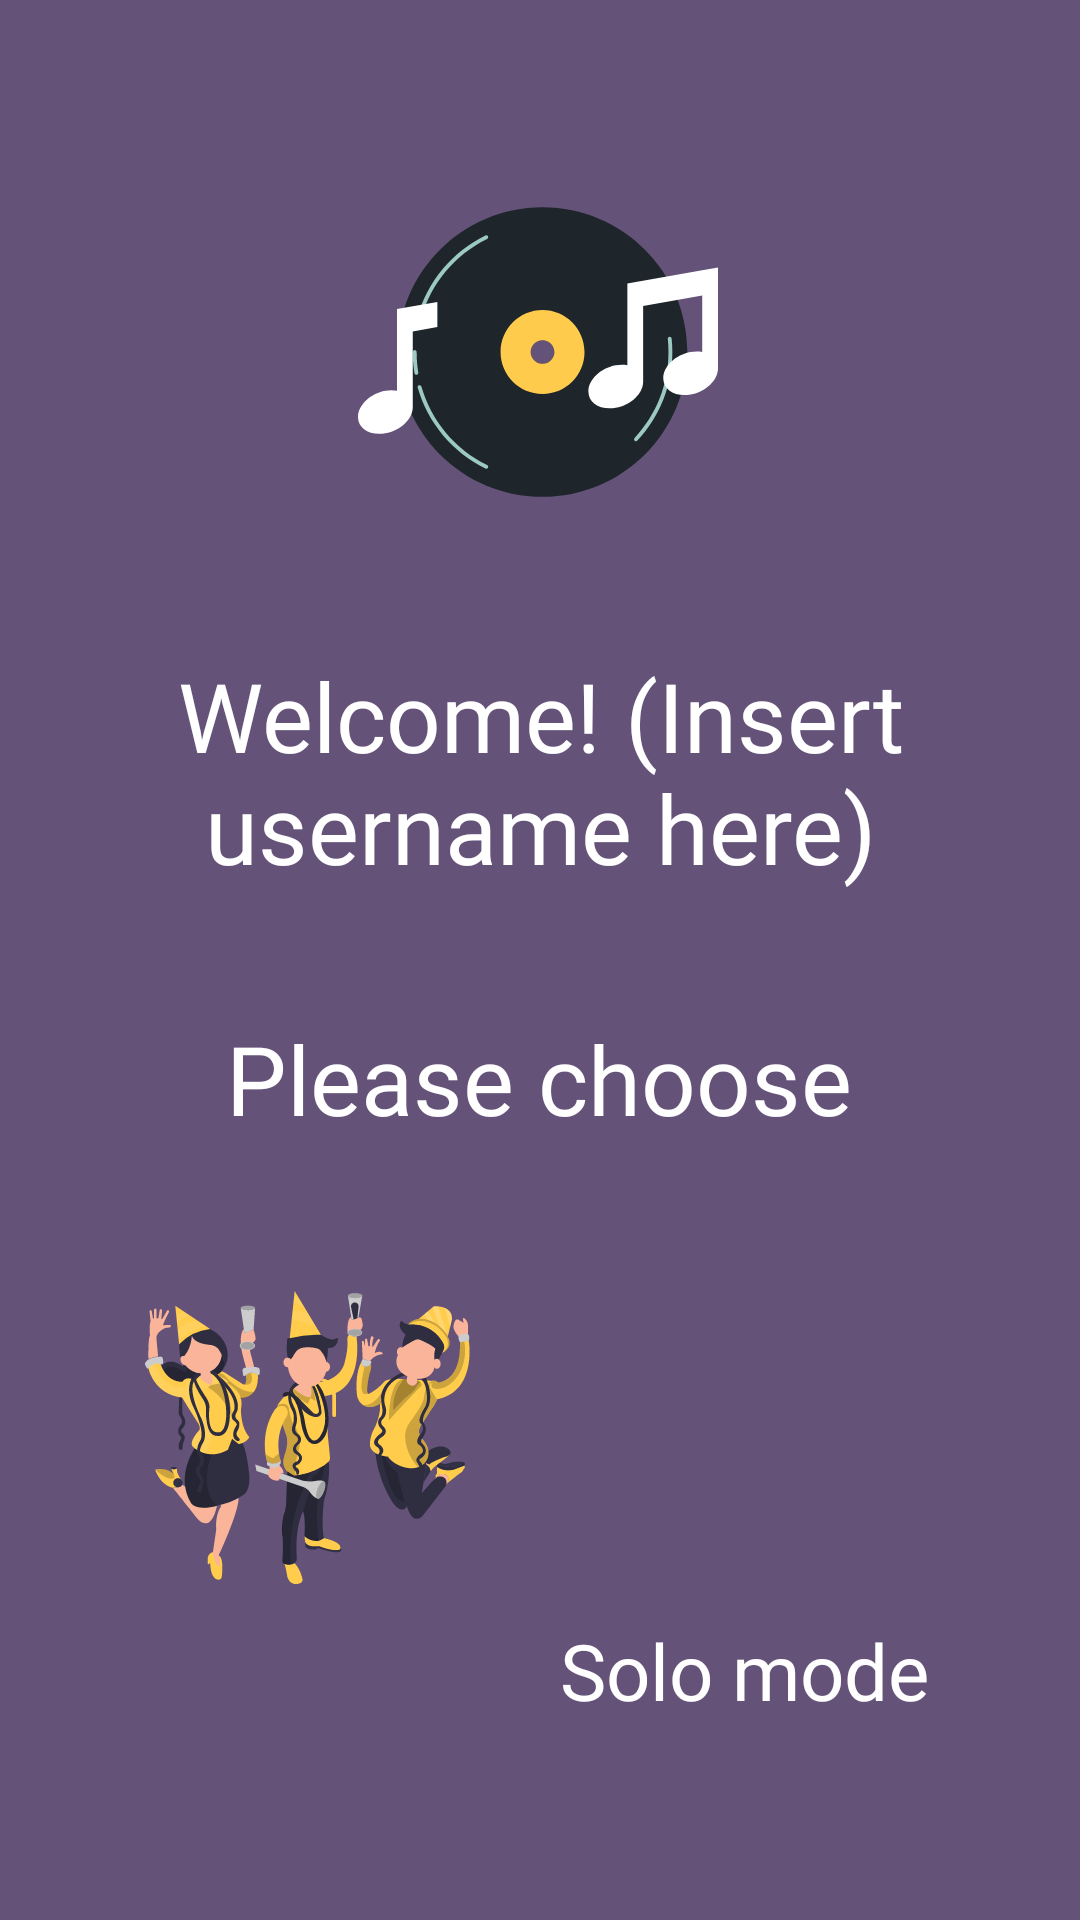

Screen size 1080w x 1920h. Icon name, then its center in pixels as (x=x, y=y):
party mode: (x=307, y=1437)
